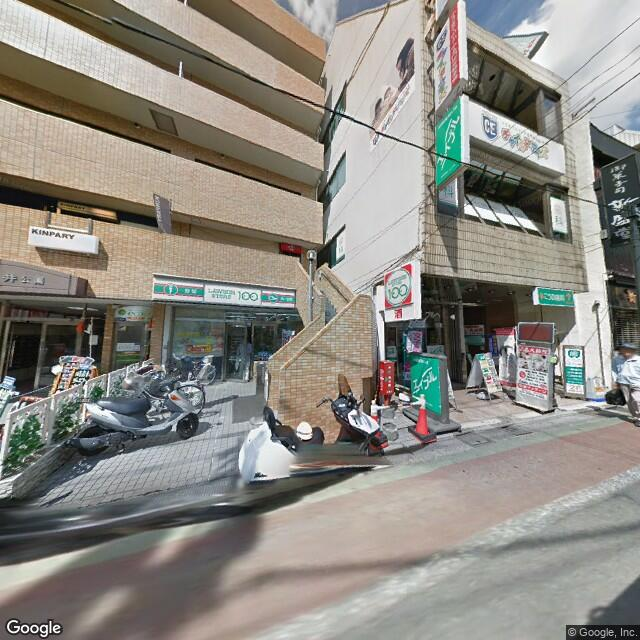lawson: (148, 274, 296, 310), (381, 255, 418, 314)
